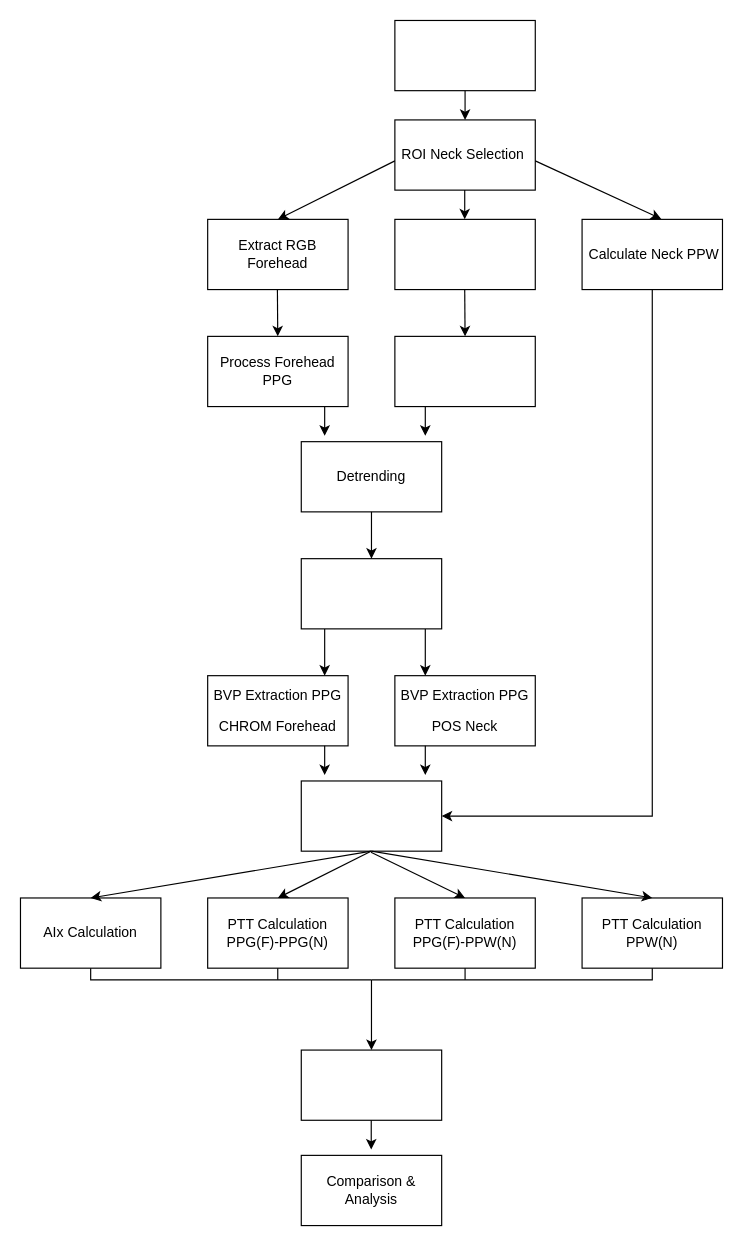
Some shapes in this 743 by 1246 pixel diagram are drawn without their labels. The centre of each missing label's shape, as x and y in pixels:
"Bandpass Filtering" goes at point (371, 593).
"Blood Pressure Estimation" goes at point (371, 1084).
"Extract RGB Neck" goes at point (464, 254).
"INITIAL SETUP (Video from File)" goes at point (464, 55).
"Peak Detection" goes at point (371, 815).
"Process Neck PPG" goes at point (464, 371).
